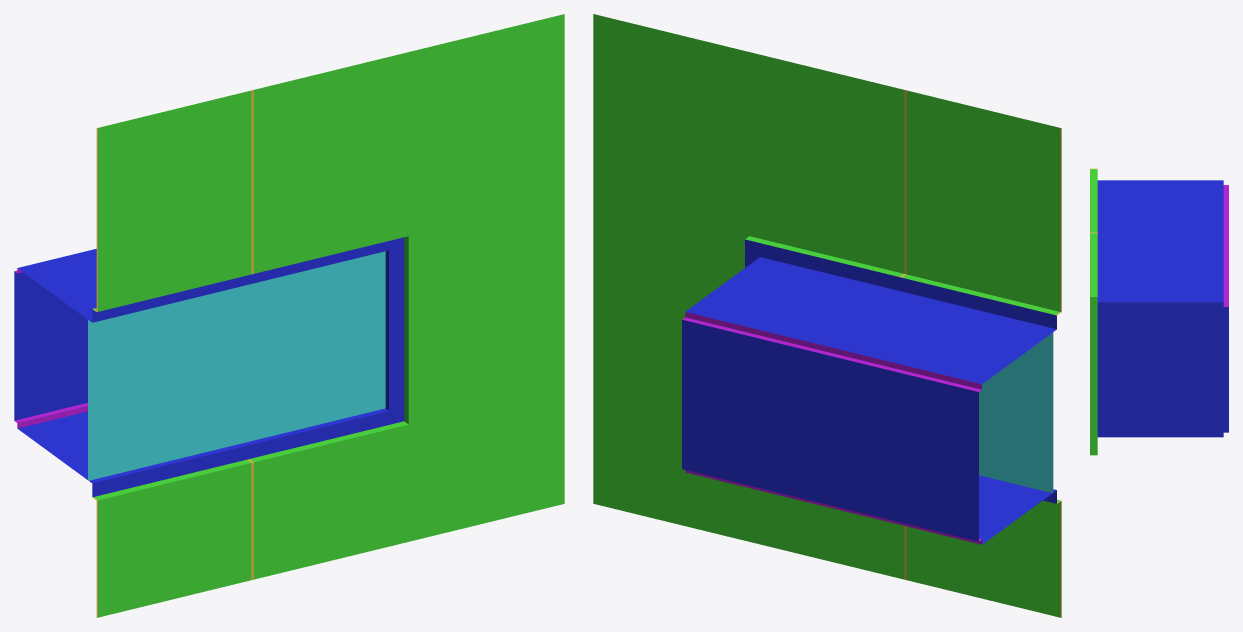
File: Wall_53_Edge.fbx
3 renders of one model, left to right at view 1: azimuth 30°, elevation 25°; view 2: azimuth 150°, elevation 25°; view 3: azimuth 270°, elevation 25°, orthographic. The views are drawn at different scales.
Parts seen in each view (by area): view 1: Wall_53_Edge; view 2: Wall_53_Edge; view 3: Wall_53_Edge.
Boxes of the visible parts, x1,y1,x2,y2 form: Wall_53_Edge: [14, 14, 564, 617]; Wall_53_Edge: [593, 14, 1061, 617]; Wall_53_Edge: [1090, 168, 1228, 455].
Size of the model in its own units: 457 by 457 by 140.
